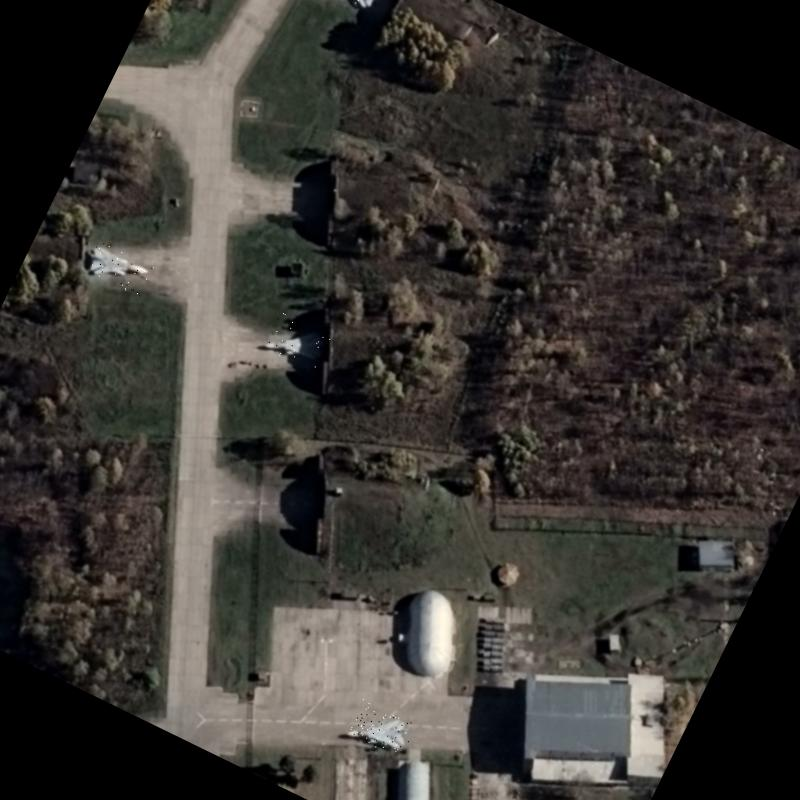A20: (345, 699, 416, 761), (262, 312, 331, 372), (82, 240, 153, 297), (320, 0, 385, 12)
